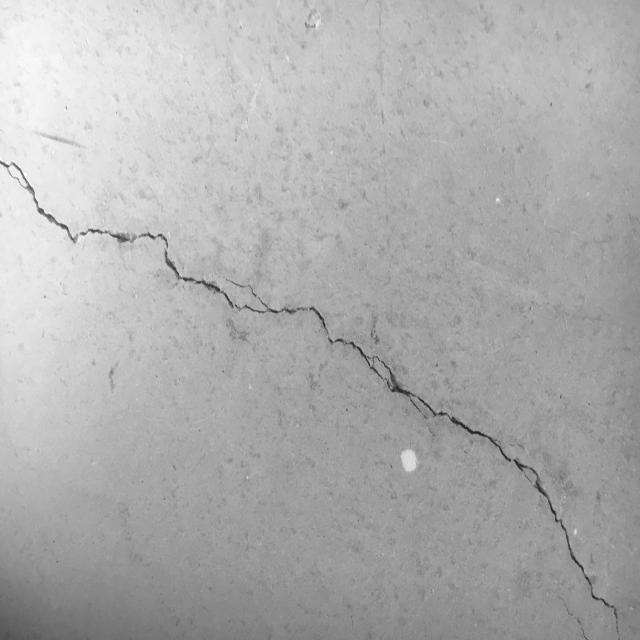SurfaceCrack: (0, 9, 639, 636)
